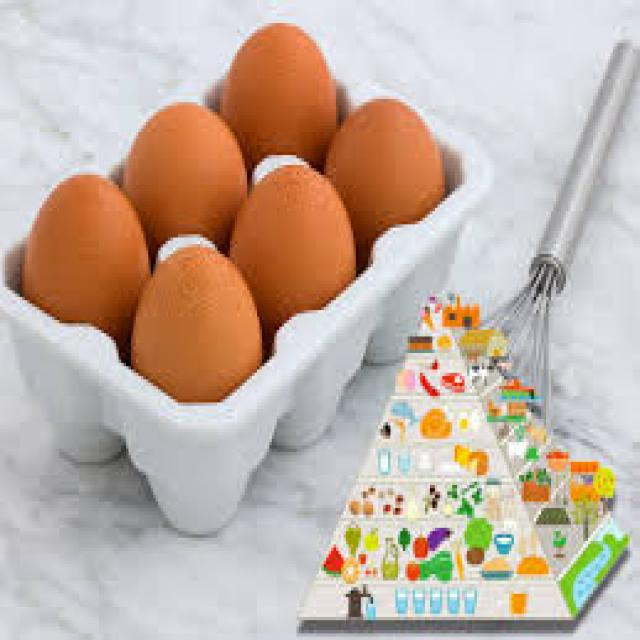Egg: (40, 102, 433, 428), (118, 239, 266, 406), (222, 19, 343, 172)
